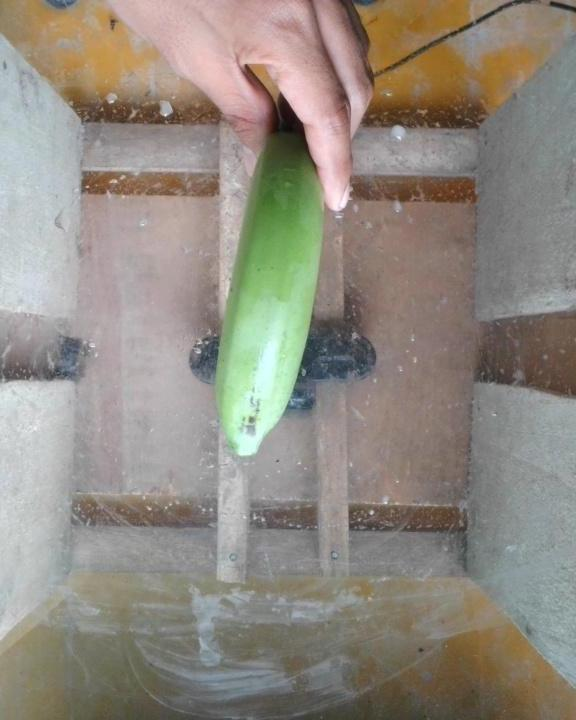CLASS B: (203, 134, 322, 464)
Class A: (235, 386, 267, 449)
